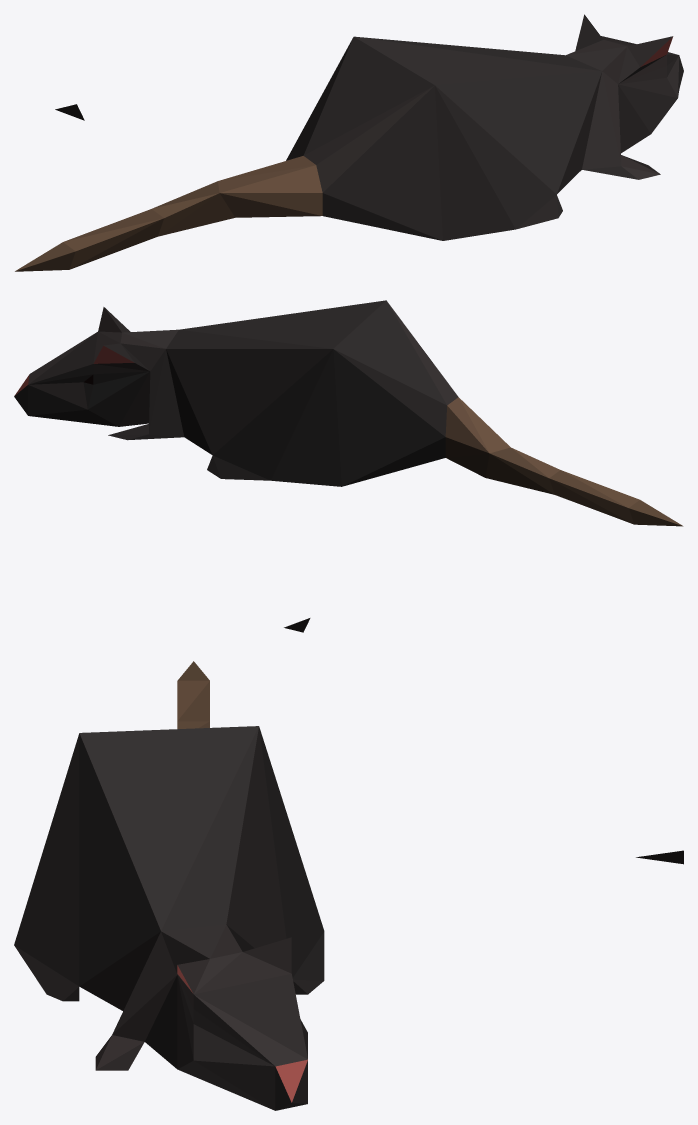
File: rat.obj
3 renders of one model, top to bottom at view 1: azimuth 30°, elevation 25°; view 2: azimuth 150°, elevation 25°; view 3: azimuth 270°, elevation 25°, orthographic. The views are drawn at different scales.
Parts seen in each view (by area): view 1: NPC Rat (level-1) 2026-09-12_20-20-15; view 2: NPC Rat (level-1) 2026-09-12_20-20-15; view 3: NPC Rat (level-1) 2026-09-12_20-20-15.
Part boxes in pixels (x1,y1,x2,y2): NPC Rat (level-1) 2026-09-12_20-20-15: [15, 14, 683, 271]; NPC Rat (level-1) 2026-09-12_20-20-15: [14, 300, 683, 632]; NPC Rat (level-1) 2026-09-12_20-20-15: [14, 661, 683, 1110].
Size of the model in its own units: 64 by 14 by 41.
